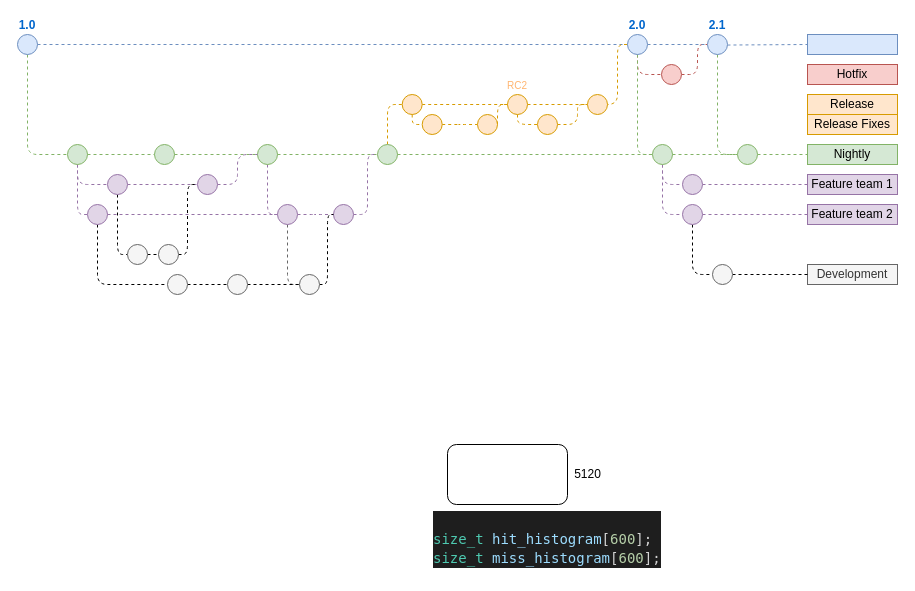
Image size: 915x591. Some labels were removed from this diagram. The centre of each missing label's shape, as x and y in pixels:
array[5 * 1024]: (x=507, y=474)
Master: (x=852, y=44)
RC1: (x=411, y=104)
RC3: (x=597, y=104)
